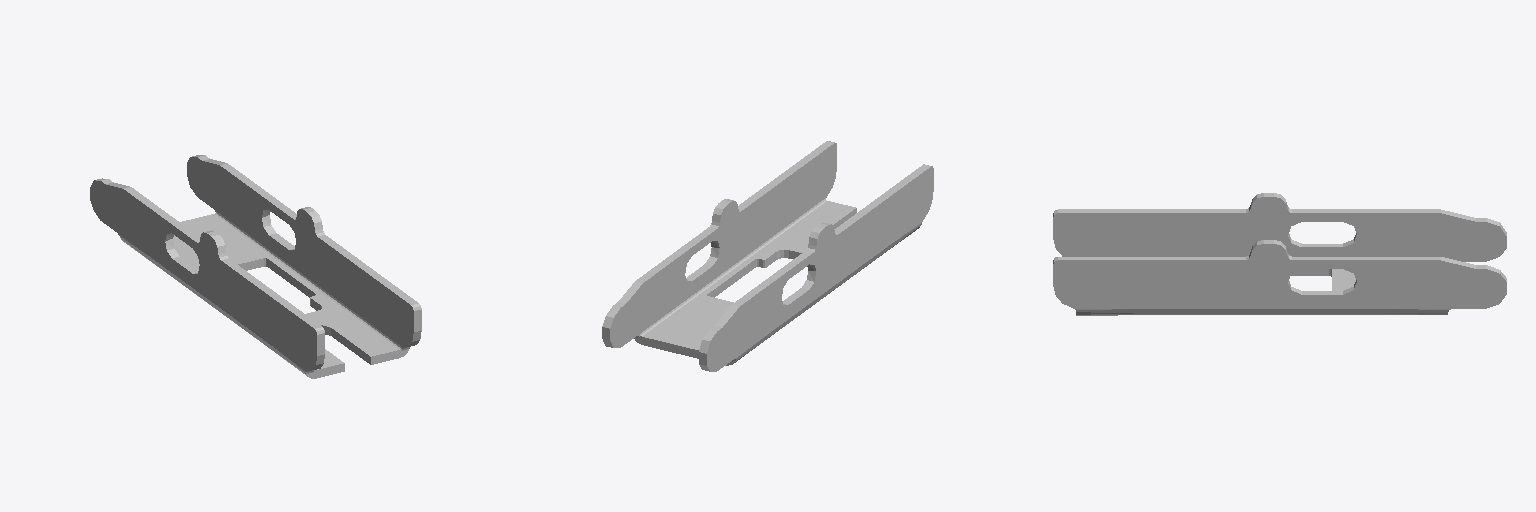
The model's file is Guide_Main.obj.
3 views of the same model, side by side, from view 1: azimuth 30°, elevation 25°; view 2: azimuth 150°, elevation 25°; view 3: azimuth 270°, elevation 25° (orthographic).
Parts seen in each view (by area): view 1: Guide_Main_mod_(edit_22_05)_MM; view 2: Guide_Main_mod_(edit_22_05)_MM; view 3: Guide_Main_mod_(edit_22_05)_MM.
Part boxes in pixels (bbox=[...]): Guide_Main_mod_(edit_22_05)_MM: bbox=[90, 155, 421, 378]; Guide_Main_mod_(edit_22_05)_MM: bbox=[602, 141, 933, 371]; Guide_Main_mod_(edit_22_05)_MM: bbox=[1053, 193, 1506, 315].
Bounding box in the file's own units: 13 × 9 × 48.85.